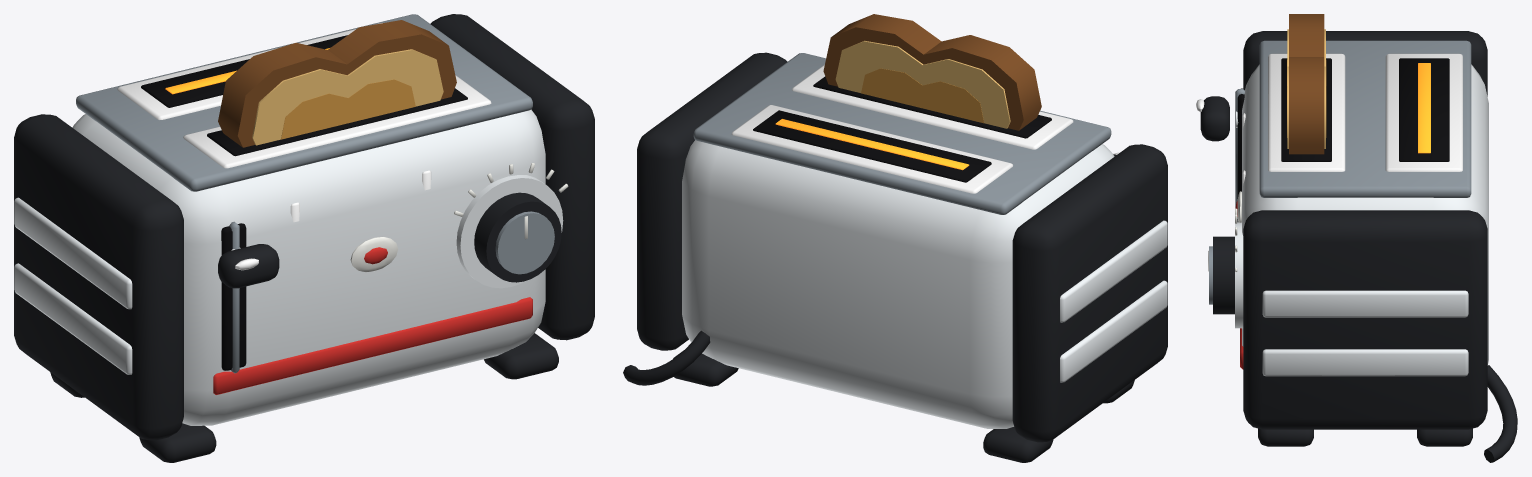
Rendered from toaster.glb.
3 views of the same model, side by side, from view 1: azimuth 30°, elevation 25°; view 2: azimuth 150°, elevation 25°; view 3: azimuth 270°, elevation 25° (orthographic). The views are drawn at different scales.
Visible parts, largest first — view 1: Toaster; view 2: Toaster; view 3: Toaster.
Boxes of the visible parts, bbox=[...] form: Toaster: bbox=[14, 14, 594, 462]; Toaster: bbox=[623, 14, 1167, 462]; Toaster: bbox=[1196, 14, 1517, 462].
Size of the model in its own units: 8.2 by 6 by 5.46.
